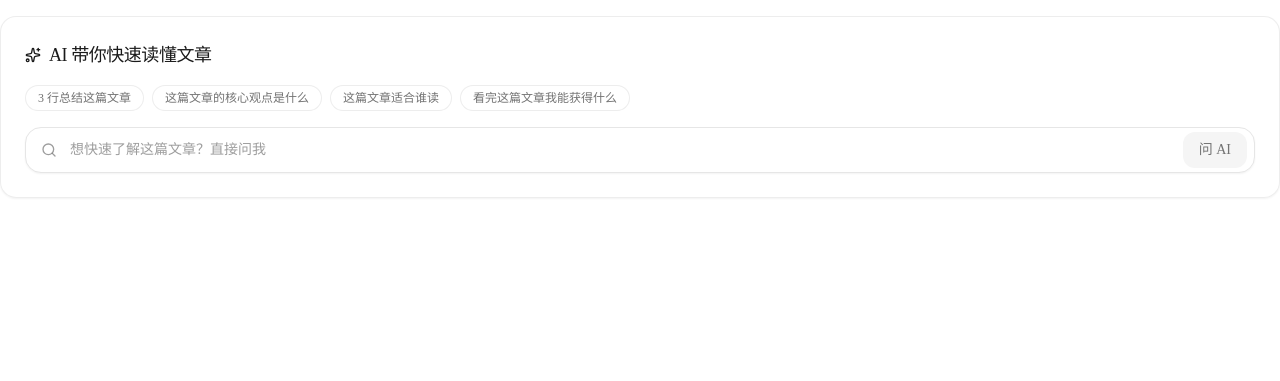
Test: PageAIAssistantProvider › 流式回答会按 Markdown 渲染列表和加粗内容
This screenshot has width=1280, height=381.
In the field with placeholder "想快速了解这篇文章？直接问我": point(640, 150) [25,127,1255,173], type "3 行总结这篇文章"
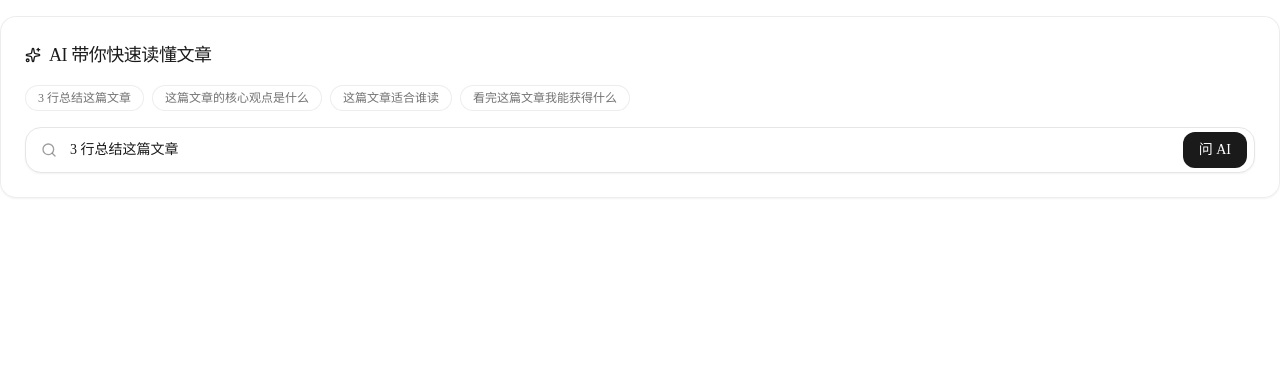
Click the button "问 AI": point(1215, 150) [1183,132,1247,168]
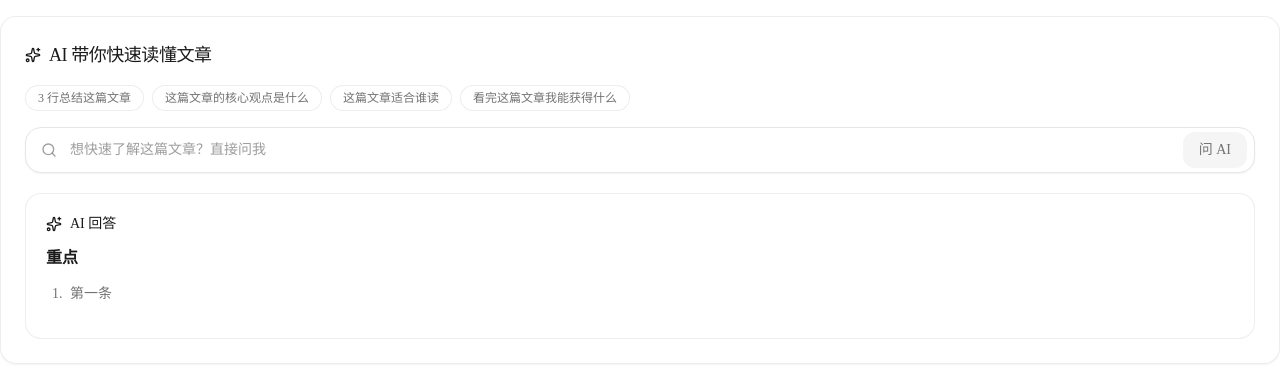
Result: the list item "第一条" is shown at [70,286,112,301]
